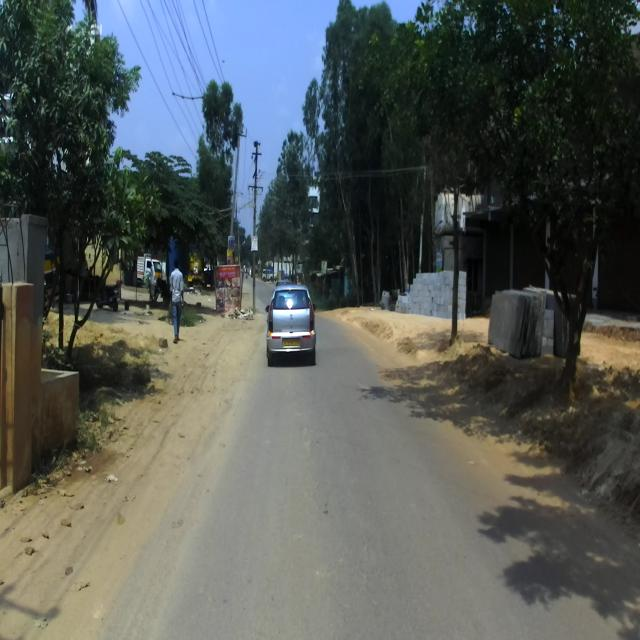car ahead at: (260, 281, 324, 365)
electric pole ahead at: (245, 137, 263, 311)
person ahead at: (165, 253, 190, 349)
